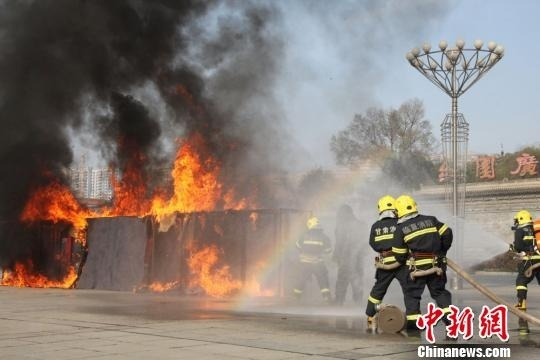fire: (0, 136, 266, 300)
